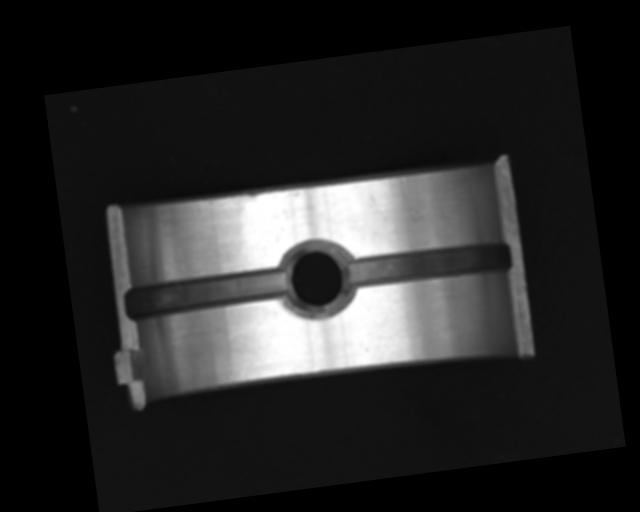gap: (339, 235, 514, 294), (122, 264, 291, 323)
hole: (277, 238, 357, 320)
nick: (400, 175, 410, 195)
